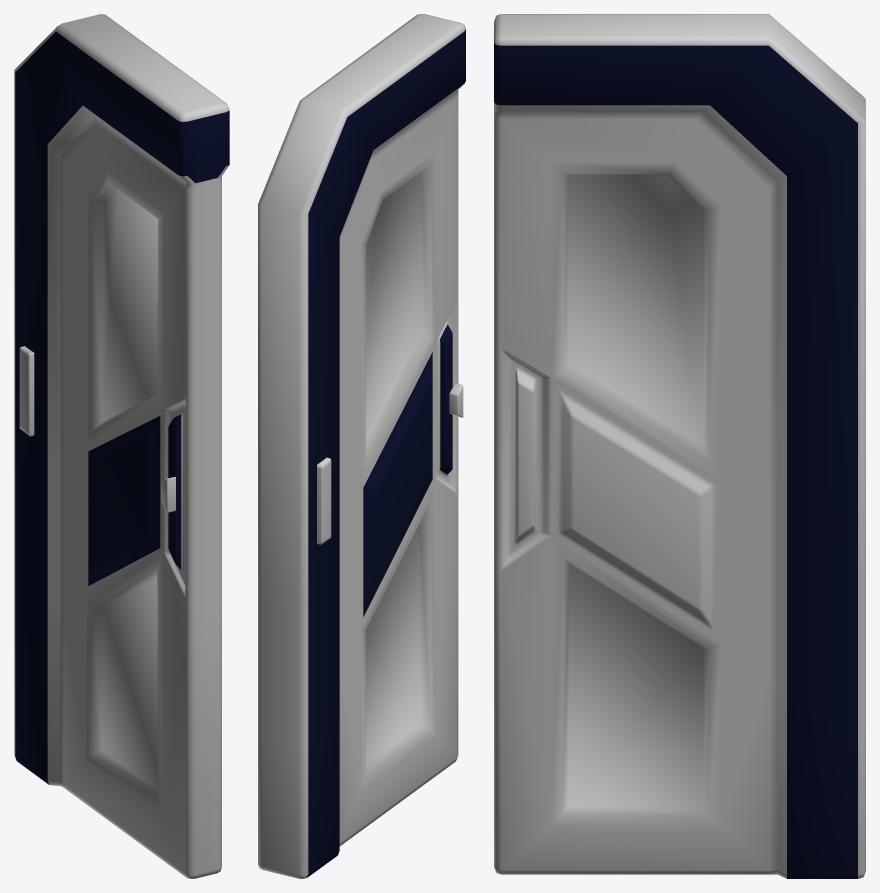
File: ML_Gate_door.fbx
3 renders of one model, left to right at view 1: azimuth 30°, elevation 25°; view 2: azimuth 150°, elevation 25°; view 3: azimuth 270°, elevation 25°, orthographic. The views are drawn at different scales.
Visible parts, largest first — view 1: Box004; view 2: Box004; view 3: Box004.
Part boxes in pixels (x1,y1,x2,y2): Box004: (14,14,229,878); Box004: (258,14,465,878); Box004: (494,14,865,878).
Size of the model in its own units: 19.31 by 251 by 101.
